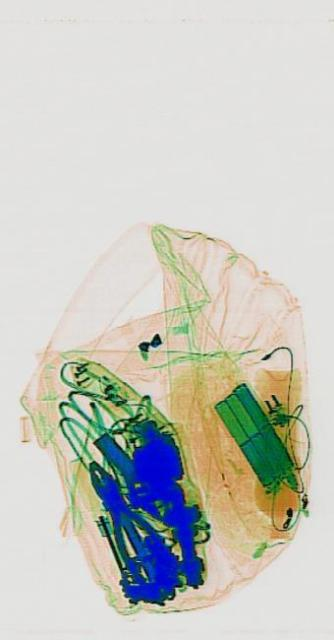Pliers: (77, 440, 164, 590)
